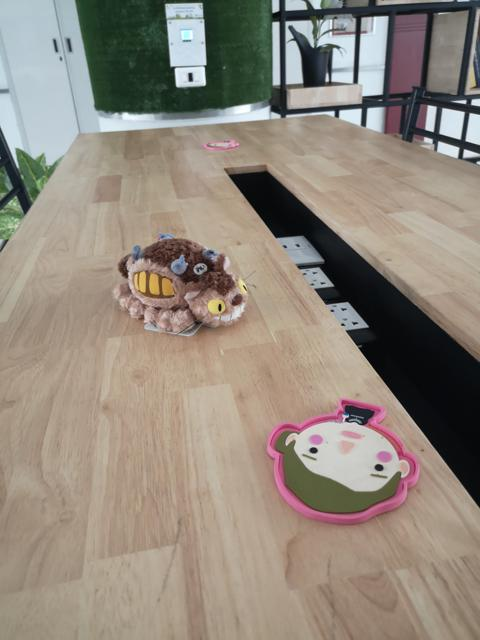nekobus: (105, 227, 260, 344)
